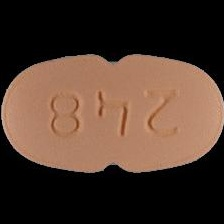23155-248: (0, 0, 224, 224)
